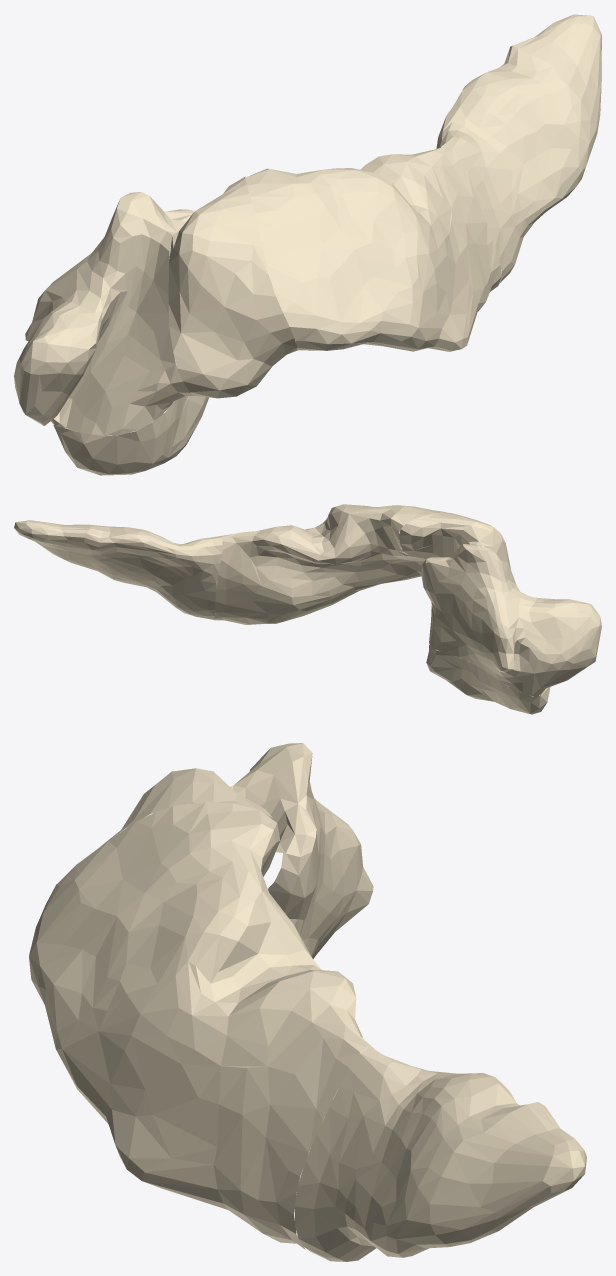
File: VH_F_Pancreas_0.2.glb
3 views of the same model, one above another, from view 1: azimuth 30°, elevation 25°; view 2: azimuth 150°, elevation 25°; view 3: azimuth 270°, elevation 25° (orthographic). The views are drawn at different scales.
Parts seen in each view (by area): view 1: VH_F_body_of_pancreas, VH_F_head_of_pancreas, VH_F_tail_of_pancreas, VH_F_neck_of_pancreas, VH_F_uncinate_process; view 2: VH_F_body_of_pancreas, VH_F_head_of_pancreas, VH_F_tail_of_pancreas, VH_F_neck_of_pancreas, VH_F_uncinate_process; view 3: VH_F_body_of_pancreas, VH_F_tail_of_pancreas, VH_F_head_of_pancreas, VH_F_neck_of_pancreas.
Part boxes in pixels (x1=…): VH_F_body_of_pancreas: x1=245, y1=146, x2=501, y2=351; VH_F_head_of_pancreas: x1=14, y1=192, x2=195, y2=435; VH_F_tail_of_pancreas: x1=436, y1=14, x2=601, y2=283; VH_F_neck_of_pancreas: x1=168, y1=176, x2=297, y2=398; VH_F_uncinate_process: x1=53, y1=392, x2=208, y2=475; VH_F_body_of_pancreas: x1=214, y1=504, x2=448, y2=624; VH_F_head_of_pancreas: x1=421, y1=544, x2=601, y2=695; VH_F_tail_of_pancreas: x1=14, y1=520, x2=222, y2=619; VH_F_neck_of_pancreas: x1=399, y1=512, x2=519, y2=591; VH_F_uncinate_process: x1=426, y1=644, x2=550, y2=714; VH_F_body_of_pancreas: x1=29, y1=802, x2=373, y2=1249; VH_F_tail_of_pancreas: x1=295, y1=1046, x2=586, y2=1261; VH_F_head_of_pancreas: x1=184, y1=743, x2=373, y2=958; VH_F_neck_of_pancreas: x1=100, y1=768, x2=272, y2=846.
Bounding box in the file's own units: 0.1722 × 0.0581 × 0.0847.
